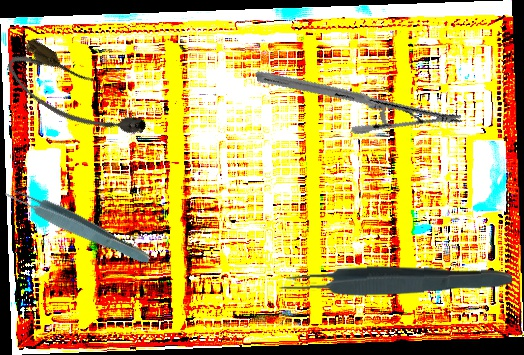Cannula: (0, 34, 153, 159)
Needle Holder: (254, 17, 464, 179)
Tissue Forceps: (2, 180, 154, 270), (278, 262, 513, 299)
